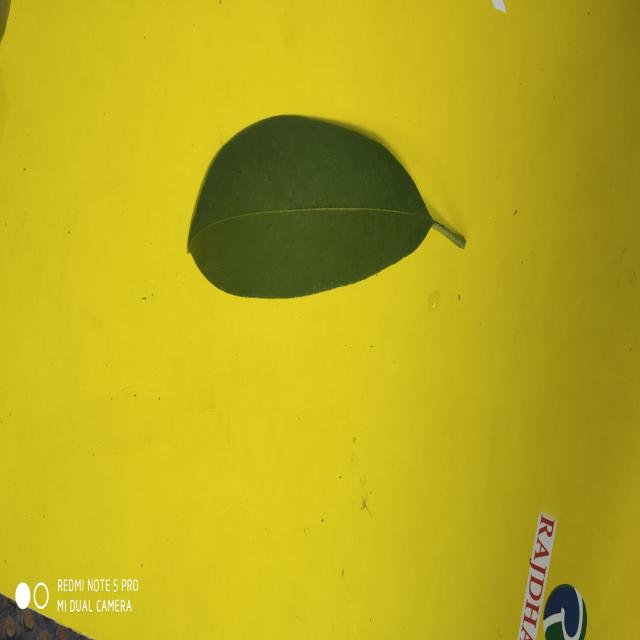sapota: (188, 116, 434, 298)
